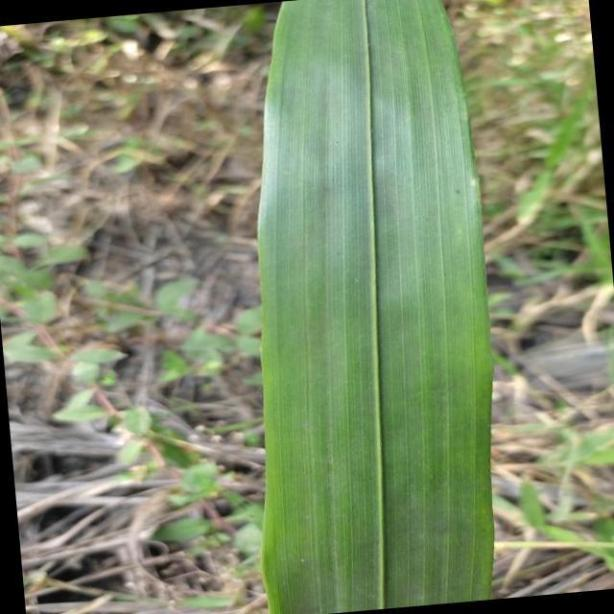Healthy: (250, 0, 494, 613)
